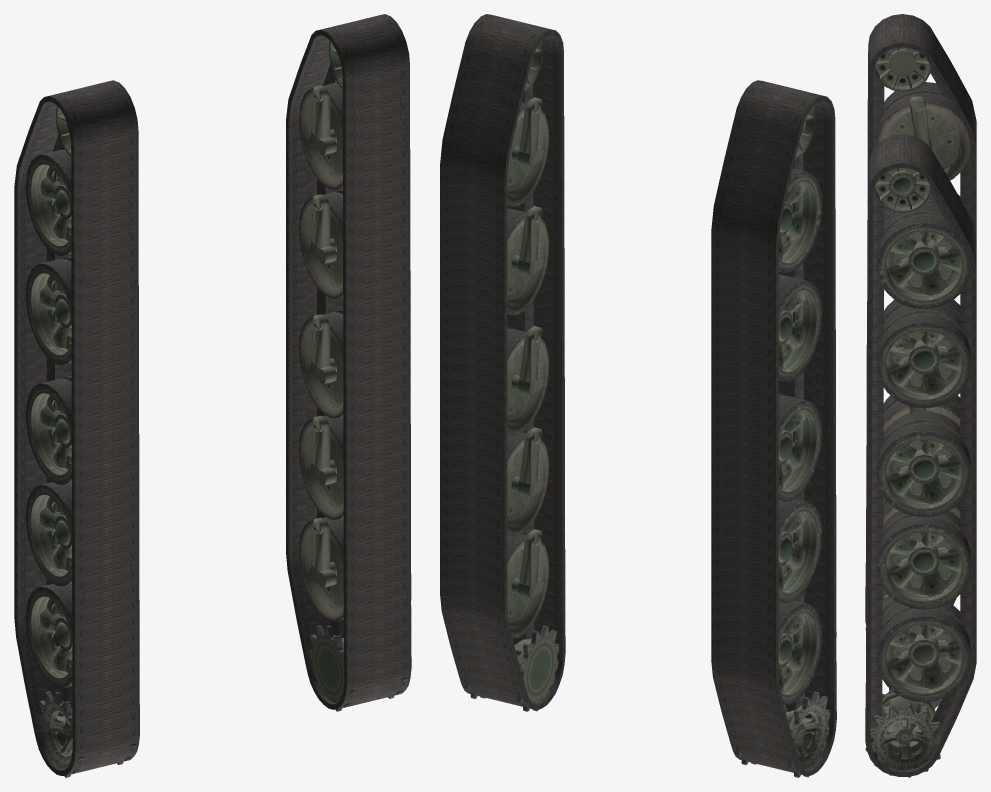
Rendered from Chassis.glb.
The picture shows the model from 3 angles, left to right: view 1: azimuth 30°, elevation 25°; view 2: azimuth 150°, elevation 25°; view 3: azimuth 270°, elevation 25°; orthographic projection. The views are drawn at different scales.
Parts seen in each view (by area): view 1: set_2_group_0, set_3_group_0, set_1_group_0, set_0_group_0; view 2: set_3_group_0, set_2_group_0, set_1_group_0, set_0_group_0; view 3: set_0_group_0, set_2_group_0, set_1_group_0, set_3_group_0.
Boxes of the visible parts, <box> form: set_2_group_0: <box>286,14,411,709</box>; set_3_group_0: <box>14,80,139,775</box>; set_1_group_0: <box>25,106,135,777</box>; set_0_group_0: <box>298,41,407,711</box>; set_3_group_0: <box>711,80,836,776</box>; set_2_group_0: <box>440,14,565,709</box>; set_1_group_0: <box>732,106,829,777</box>; set_0_group_0: <box>461,41,558,711</box>; set_0_group_0: <box>865,168,971,777</box>; set_2_group_0: <box>865,134,976,776</box>; set_1_group_0: <box>865,47,970,629</box>; set_3_group_0: <box>865,14,976,625</box>.
Size of the model in its own units: 3.02 by 5.81 by 0.95.
4 materials, 4 textured.
